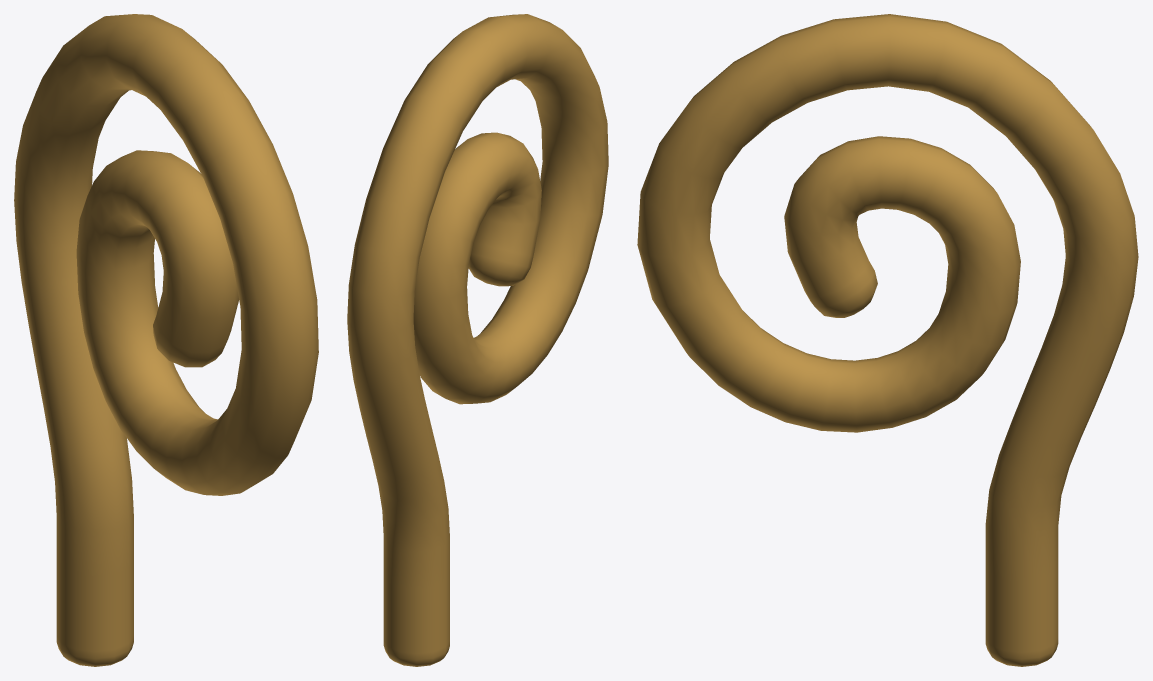
The model's file is evil_santas_wand.fbx.
The picture shows the model from 3 angles, left to right: view 1: azimuth 30°, elevation 25°; view 2: azimuth 150°, elevation 25°; view 3: azimuth 270°, elevation 25°; orthographic projection. The views are drawn at different scales.
Visible parts, largest first — view 1: Wand.001; view 2: Wand.001; view 3: Wand.001.
Part boxes in pixels (x1,y1,x2,y2): Wand.001: (14,14,318,666); Wand.001: (347,14,608,666); Wand.001: (637,14,1138,666).
Bounding box in the file's own units: 3.31 × 32.07 × 22.79.
